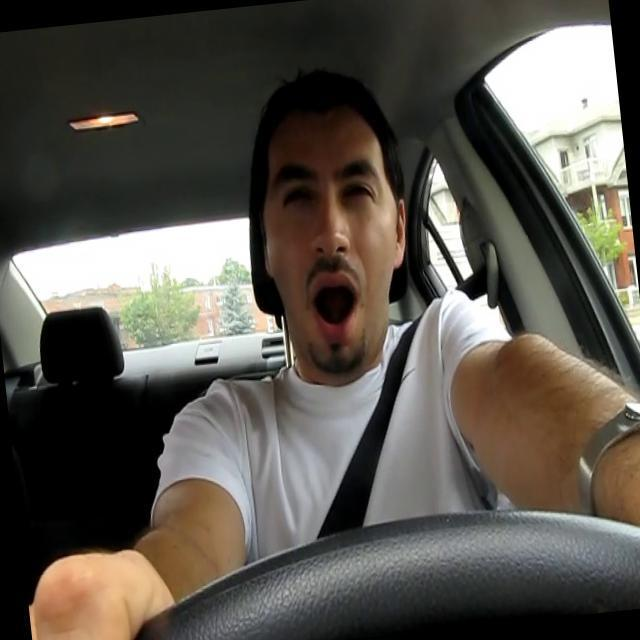open-mouth: (307, 274, 362, 334)
